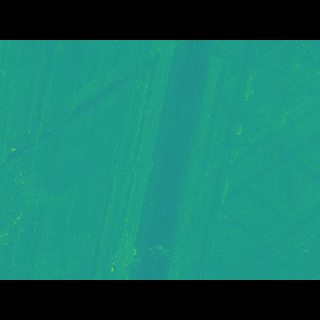Loch: (186, 68, 320, 251), (0, 69, 164, 197)
